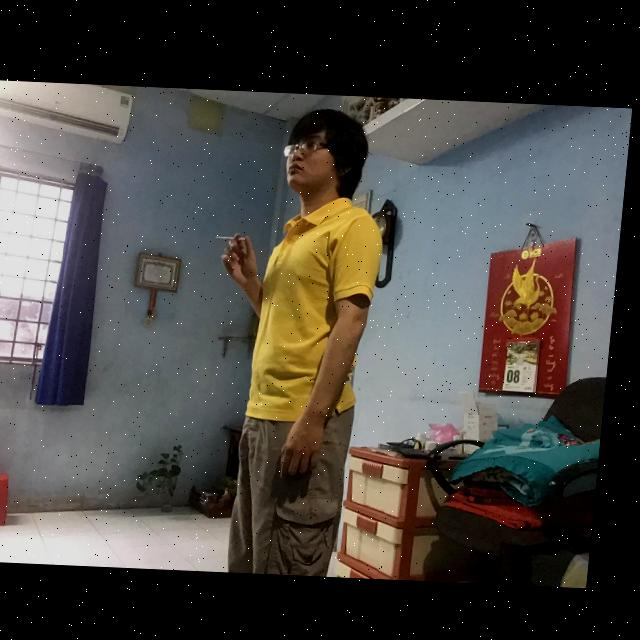cigarette: (220, 233, 250, 238)
